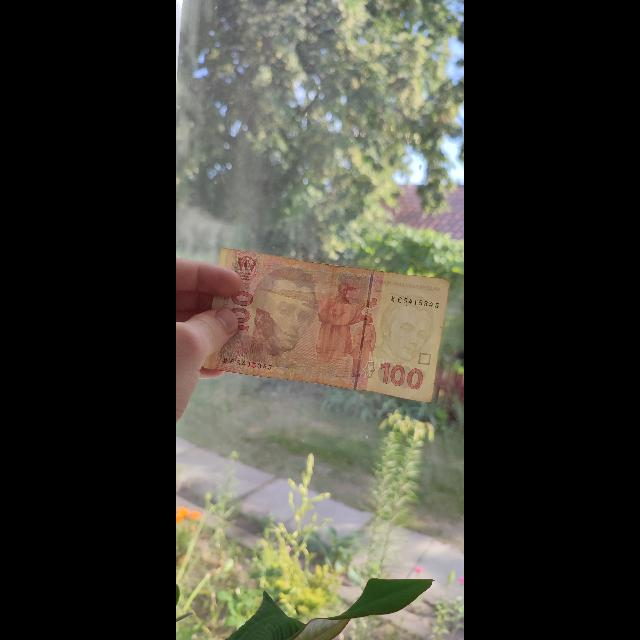100uah: (201, 247, 450, 402)
